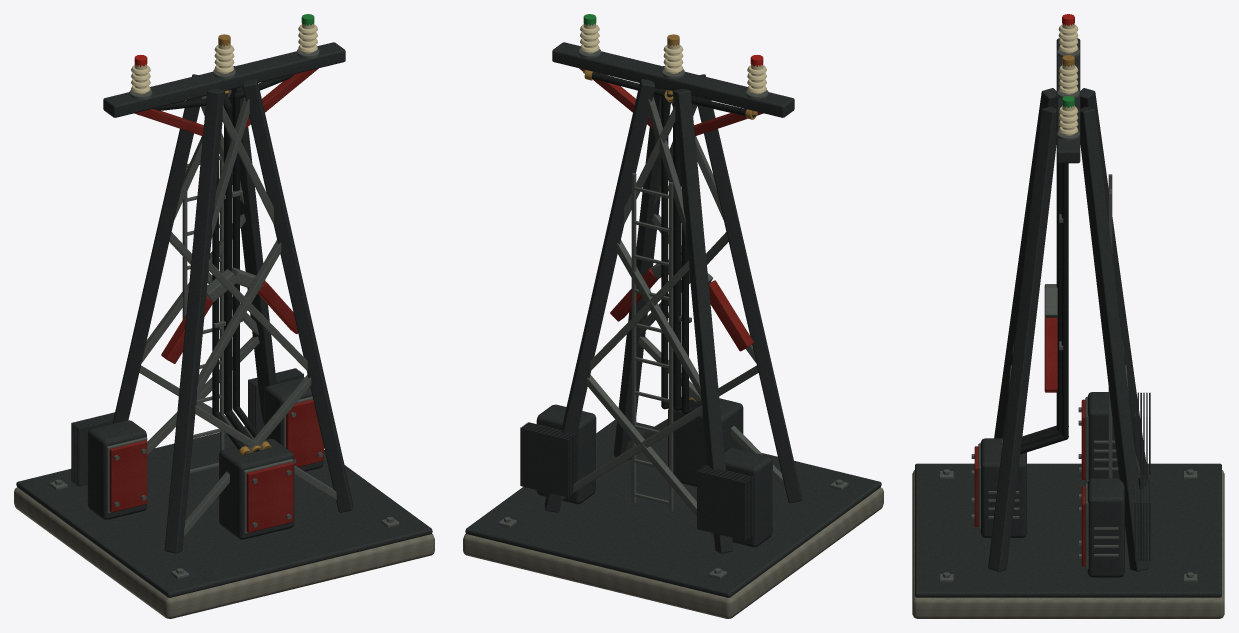
Rendered from power-3.glb.
3 views of the same model, side by side, from view 1: azimuth 30°, elevation 25°; view 2: azimuth 150°, elevation 25°; view 3: azimuth 270°, elevation 25° (orthographic).
Visible parts, largest first — view 1: Cast foundation edge, Ferrocrete ground-contact plinth, Tapered pylon corner chord, Tapered pylon corner chord.001, Tapered pylon corner chord.002, Load-bearing power and circuit crossarm, Tapered pylon corner chord.003, Armored electrical cabinet, Red armored service cover, Armored electrical cabinet.001, Red armored service cover.001, Red armored service cover.002 (+20 smaller); view 2: Cast foundation edge, Ferrocrete ground-contact plinth, Tapered pylon corner chord.002, Tapered pylon corner chord.003, Tapered pylon corner chord, Load-bearing power and circuit crossarm, Tapered pylon corner chord.001, Armored electrical cabinet, Transformer cooling fin.011, Transformer cooling fin.005, Armored electrical cabinet.001, Armored electrical cabinet.002 (+17 smaller); view 3: Cast foundation edge, Tapered pylon corner chord.001, Tapered pylon corner chord.003, Ferrocrete ground-contact plinth, Armored electrical cabinet.002, Armored electrical cabinet, Tapered pylon corner chord.002, Tapered pylon corner chord, Cabinet to crossarm armored riser segment 1.001, Armored electrical cabinet.001, Copper bus armored central riser segment 1, Load-bearing power and circuit crossarm (+3 smaller).
Part boxes in pixels (box(x1,y1,x2,y2)): Cast foundation edge: box(16, 426, 432, 597); Ferrocrete ground-contact plinth: box(14, 487, 434, 618); Tapered pylon corner chord: box(164, 89, 225, 553); Tapered pylon corner chord.001: box(242, 79, 353, 512); Tapered pylon corner chord.002: box(112, 74, 202, 423); Load-bearing power and circuit crossarm: box(103, 42, 345, 117); Tapered pylon corner chord.003: box(229, 66, 276, 424); Armored electrical cabinet: box(219, 438, 294, 539); Red armored service cover: box(246, 462, 293, 532); Armored electrical cabinet.001: box(87, 420, 146, 519); Red armored service cover.001: box(109, 440, 147, 512); Red armored service cover.002: box(286, 399, 323, 466); Cast foundation edge: box(465, 419, 881, 597); Ferrocrete ground-contact plinth: box(463, 487, 883, 618); Tapered pylon corner chord.002: box(672, 89, 733, 553); Tapered pylon corner chord.003: box(544, 79, 655, 512); Tapered pylon corner chord: box(695, 74, 802, 503); Load-bearing power and circuit crossarm: box(552, 42, 794, 117); Tapered pylon corner chord.001: box(613, 66, 670, 460); Armored electrical cabinet: box(668, 394, 743, 486); Transformer cooling fin.011: box(520, 427, 568, 497); Transformer cooling fin.005: box(697, 470, 745, 540); Armored electrical cabinet.001: box(724, 447, 772, 547); Armored electrical cabinet.002: box(536, 404, 595, 504); Cast foundation edge: box(915, 463, 1221, 597); Tapered pylon corner chord.001: box(988, 107, 1056, 571); Tapered pylon corner chord.003: box(1080, 107, 1148, 571); Ferrocrete ground-contact plinth: box(912, 470, 1224, 618); Armored electrical cabinet.002: box(1087, 478, 1124, 577); Armored electrical cabinet: box(980, 438, 1026, 537); Tapered pylon corner chord.002: box(1080, 88, 1148, 488); Tapered pylon corner chord: box(994, 88, 1056, 438); Cabinet to crossarm armored riser segment 1.001: box(1061, 163, 1068, 437); Armored electrical cabinet.001: box(1087, 392, 1119, 479); Copper bus armored central riser segment 1: box(1056, 162, 1061, 432); Load-bearing power and circuit crossarm: box(1056, 38, 1080, 163).
Bounding box in the file's own units: 2.9 × 5.09 × 2.9.
10 materials, 7 textured.
